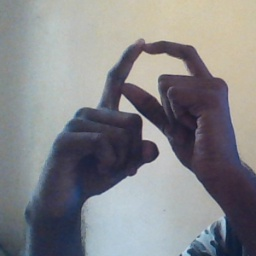D: (75, 33, 221, 163)
